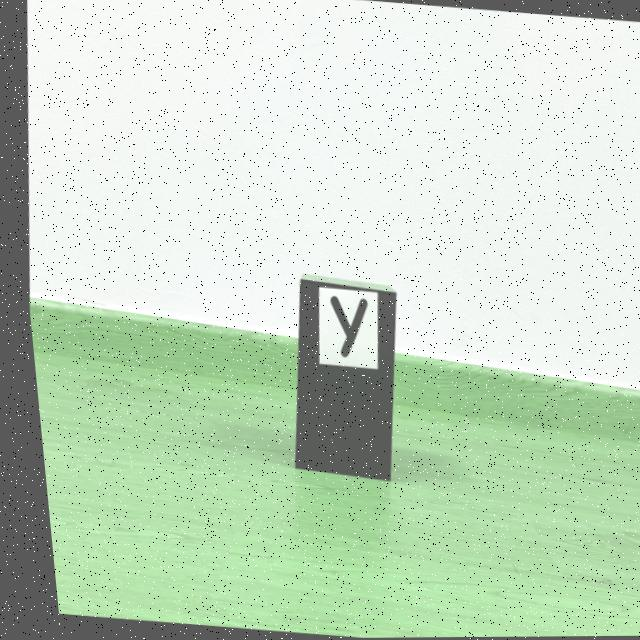Y: (323, 295, 361, 358)
